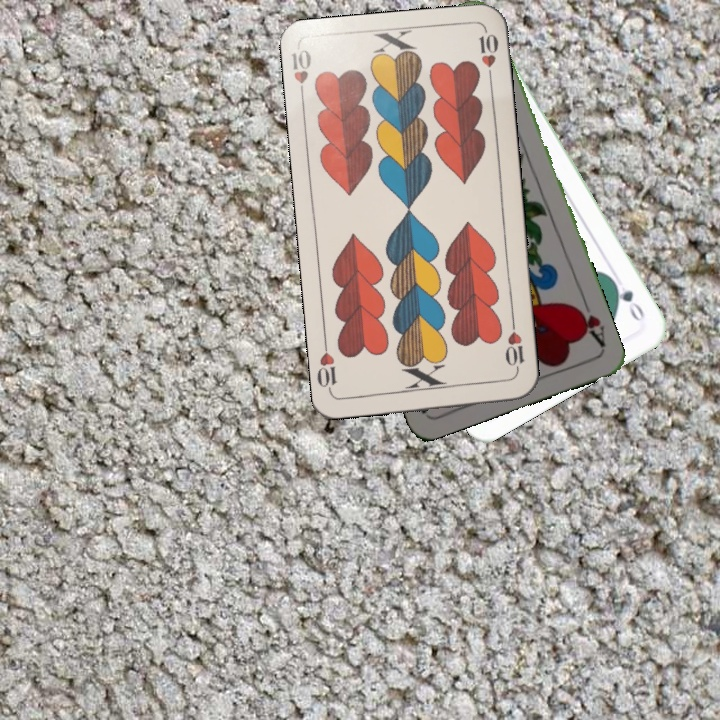GO: (607, 275, 648, 324)
H10: (501, 317, 527, 376), (288, 45, 314, 104)
HA: (570, 294, 608, 350)
